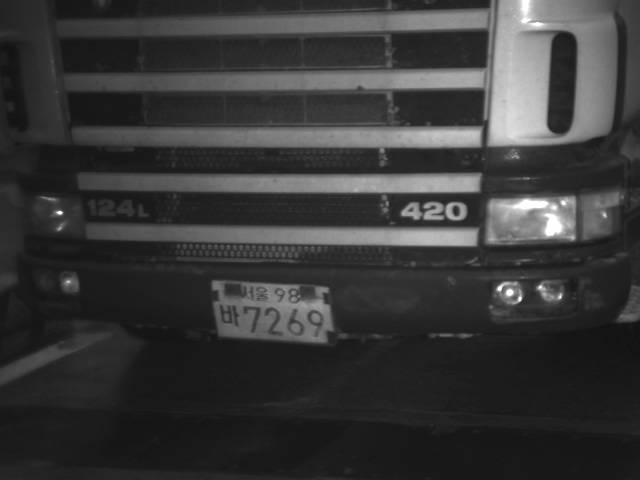car: (1, 1, 640, 353)
plate: (209, 278, 339, 344)
